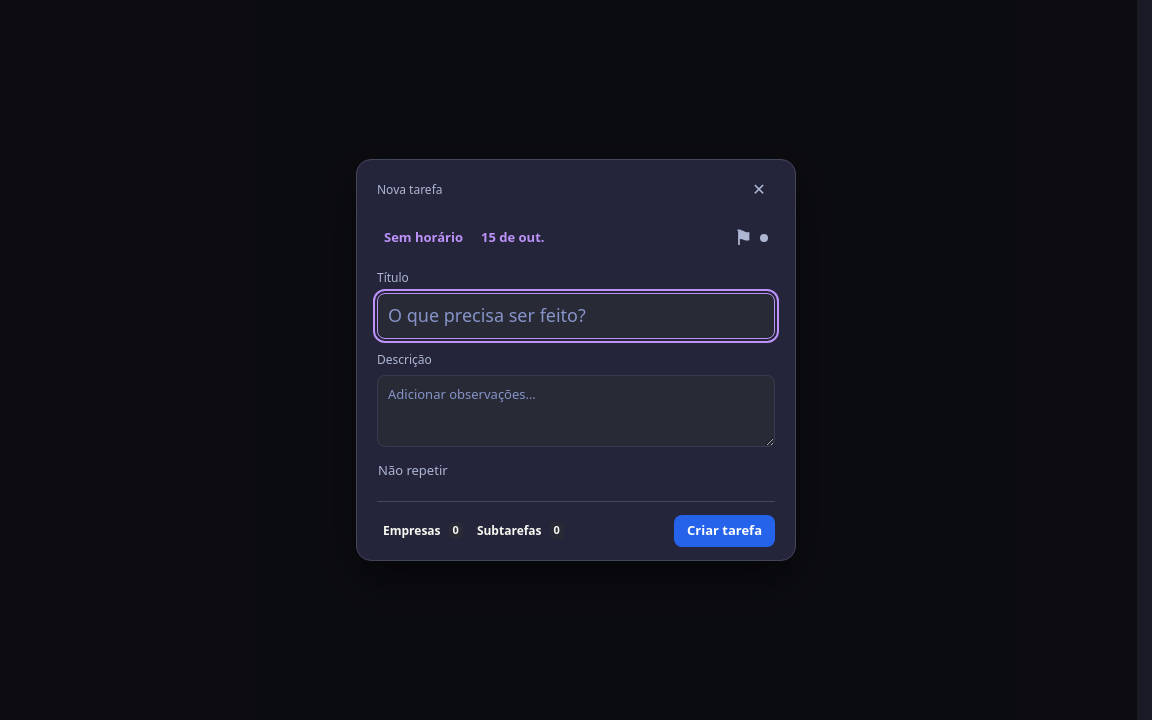
it: recusa preserva formulário e permite tentar novamente
Type "Tarefa mantida" into the field labelled "Título". click: (576, 316)
box: top-left (377, 293), bottom-right (775, 339)
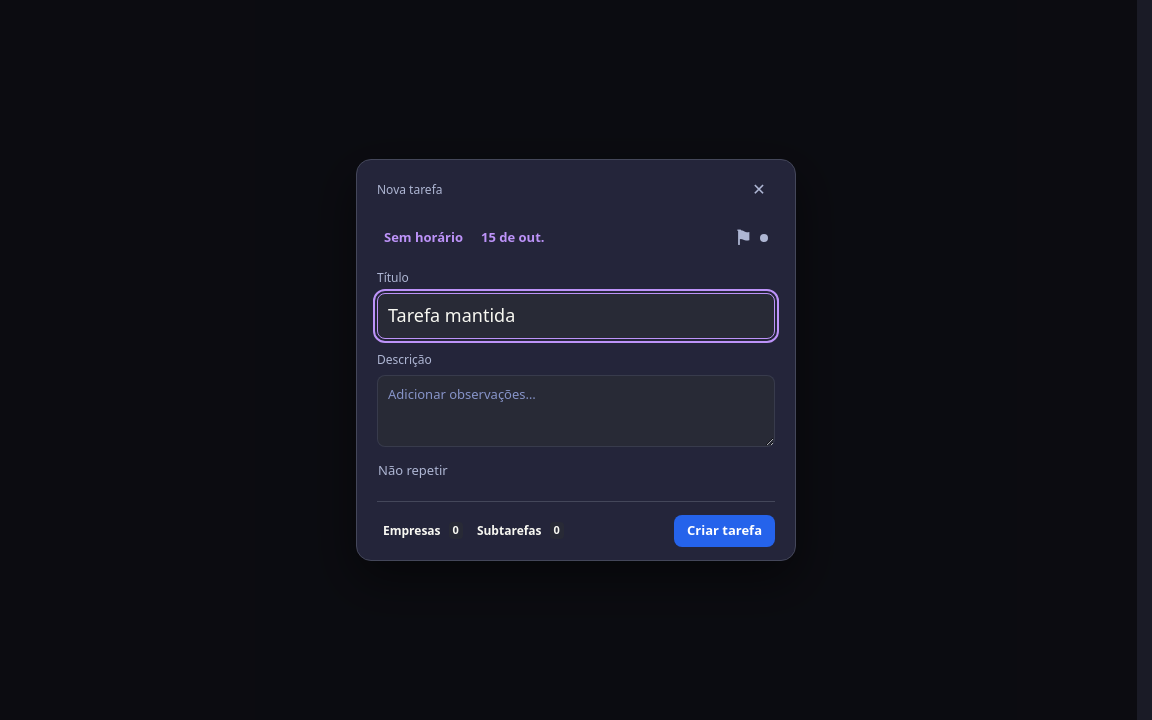
Click the button "Criar tarefa". click: (724, 531)
box: top-left (674, 515), bottom-right (775, 547)
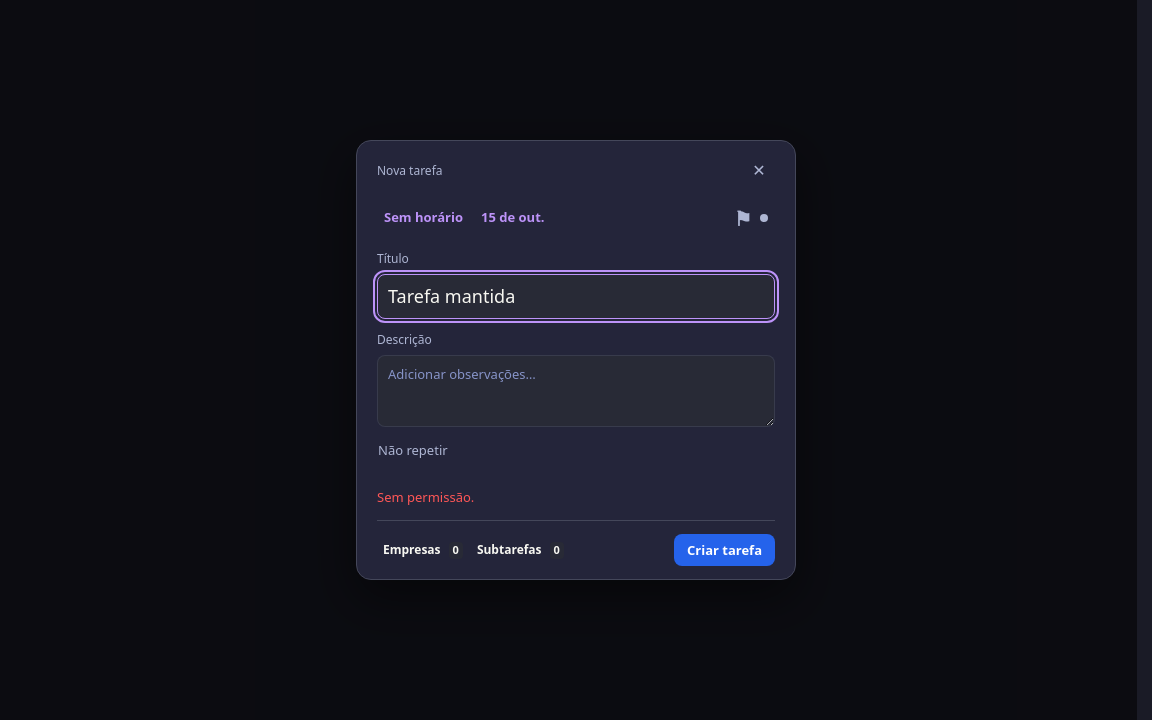
Expected: the button "Criar tarefa" is enabled, top-left (674, 534), bottom-right (775, 566)
Result: the message reads "Sem permissão." at top-left (377, 488), bottom-right (474, 506)
